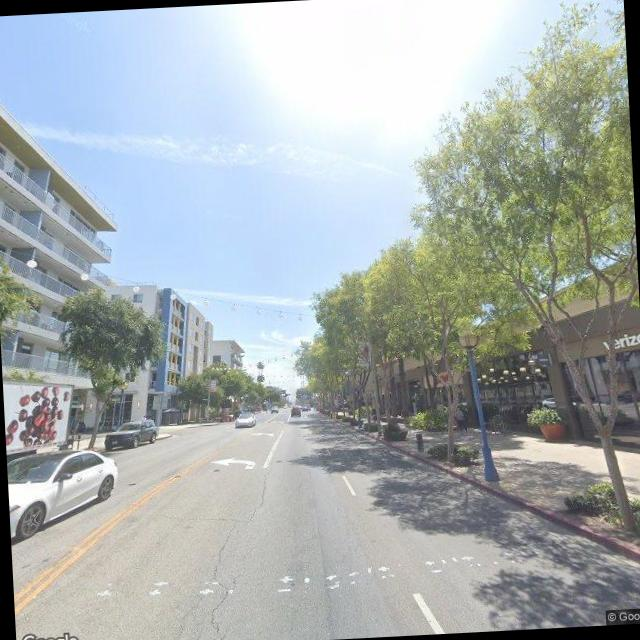pothole: (188, 520, 243, 640), (242, 470, 272, 522)
